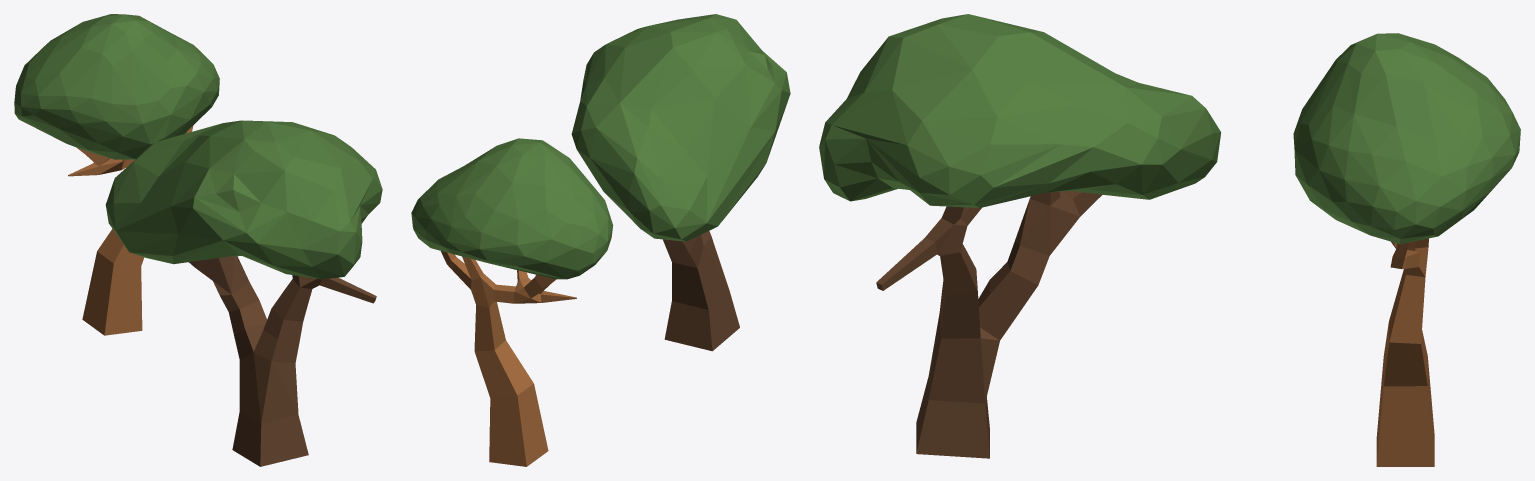
File: trees.fbx
The picture shows the model from 3 angles, left to right: view 1: azimuth 30°, elevation 25°; view 2: azimuth 150°, elevation 25°; view 3: azimuth 270°, elevation 25°; orthographic projection. The views are drawn at different scales.
Parts seen in each view (by area): view 1: Cube.003, Cube.004; view 2: Cube.003, Cube.004; view 3: Cube.003, Cube.004.
Boxes of the visible parts, x1,y1,x2,y2 form: Cube.003: (105, 120, 382, 466); Cube.004: (14, 14, 219, 335); Cube.003: (571, 14, 790, 351); Cube.004: (411, 138, 613, 466); Cube.003: (819, 14, 1221, 458); Cube.004: (1293, 33, 1520, 466).
Bounding box in the file's own units: 469 × 723 × 1093.
